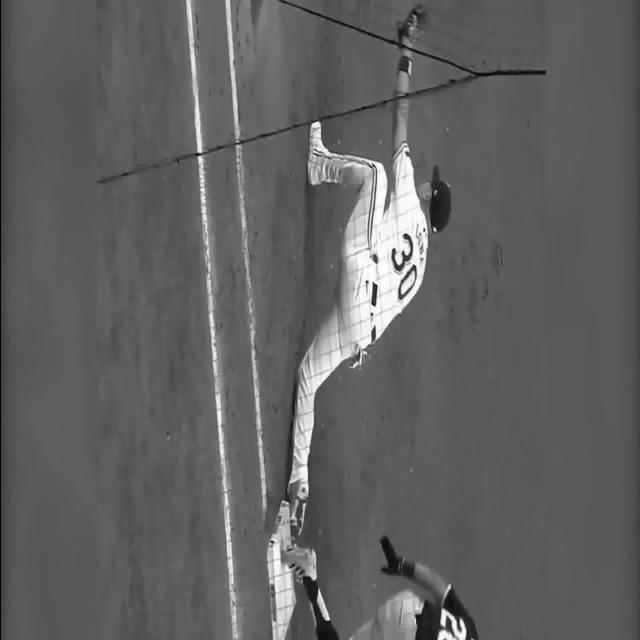base: (264, 504, 293, 640)
baseball_glove: (394, 0, 436, 44)
shoe: (280, 544, 316, 582), (286, 478, 308, 536), (306, 120, 322, 186), (348, 343, 368, 369)
